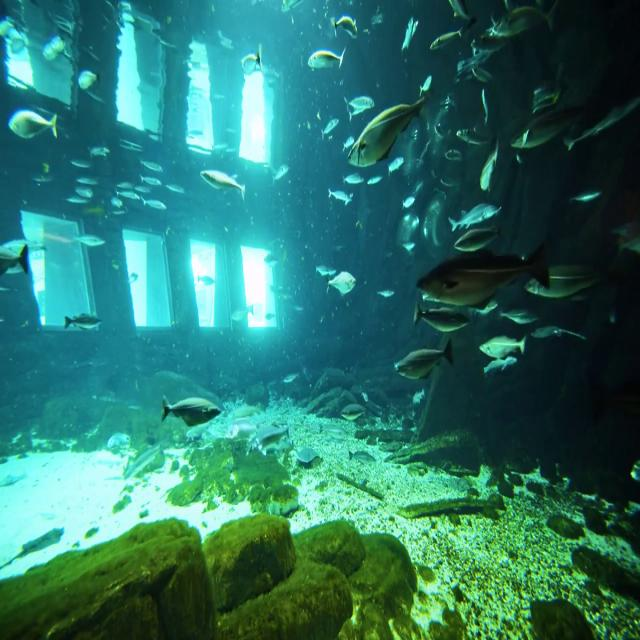fish: (417, 240, 553, 306), (338, 84, 431, 170), (390, 333, 450, 388), (161, 384, 219, 424), (12, 108, 59, 144), (477, 333, 523, 359), (305, 48, 347, 72)
